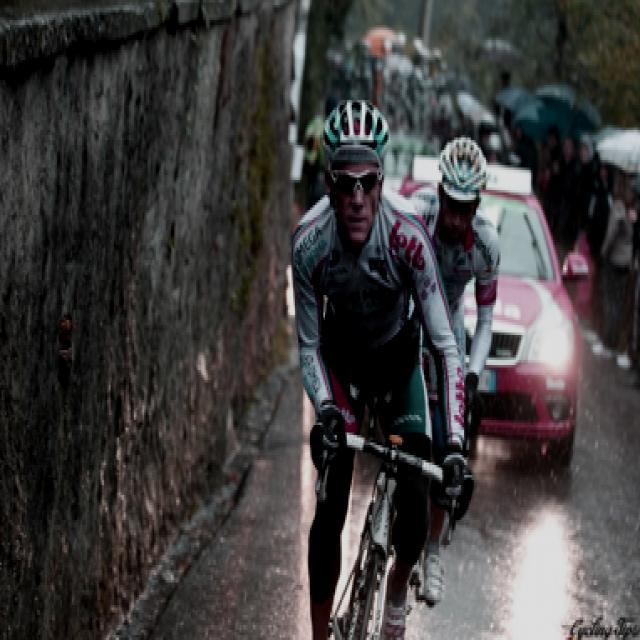Helmet: (315, 90, 397, 252), (426, 125, 502, 265)
